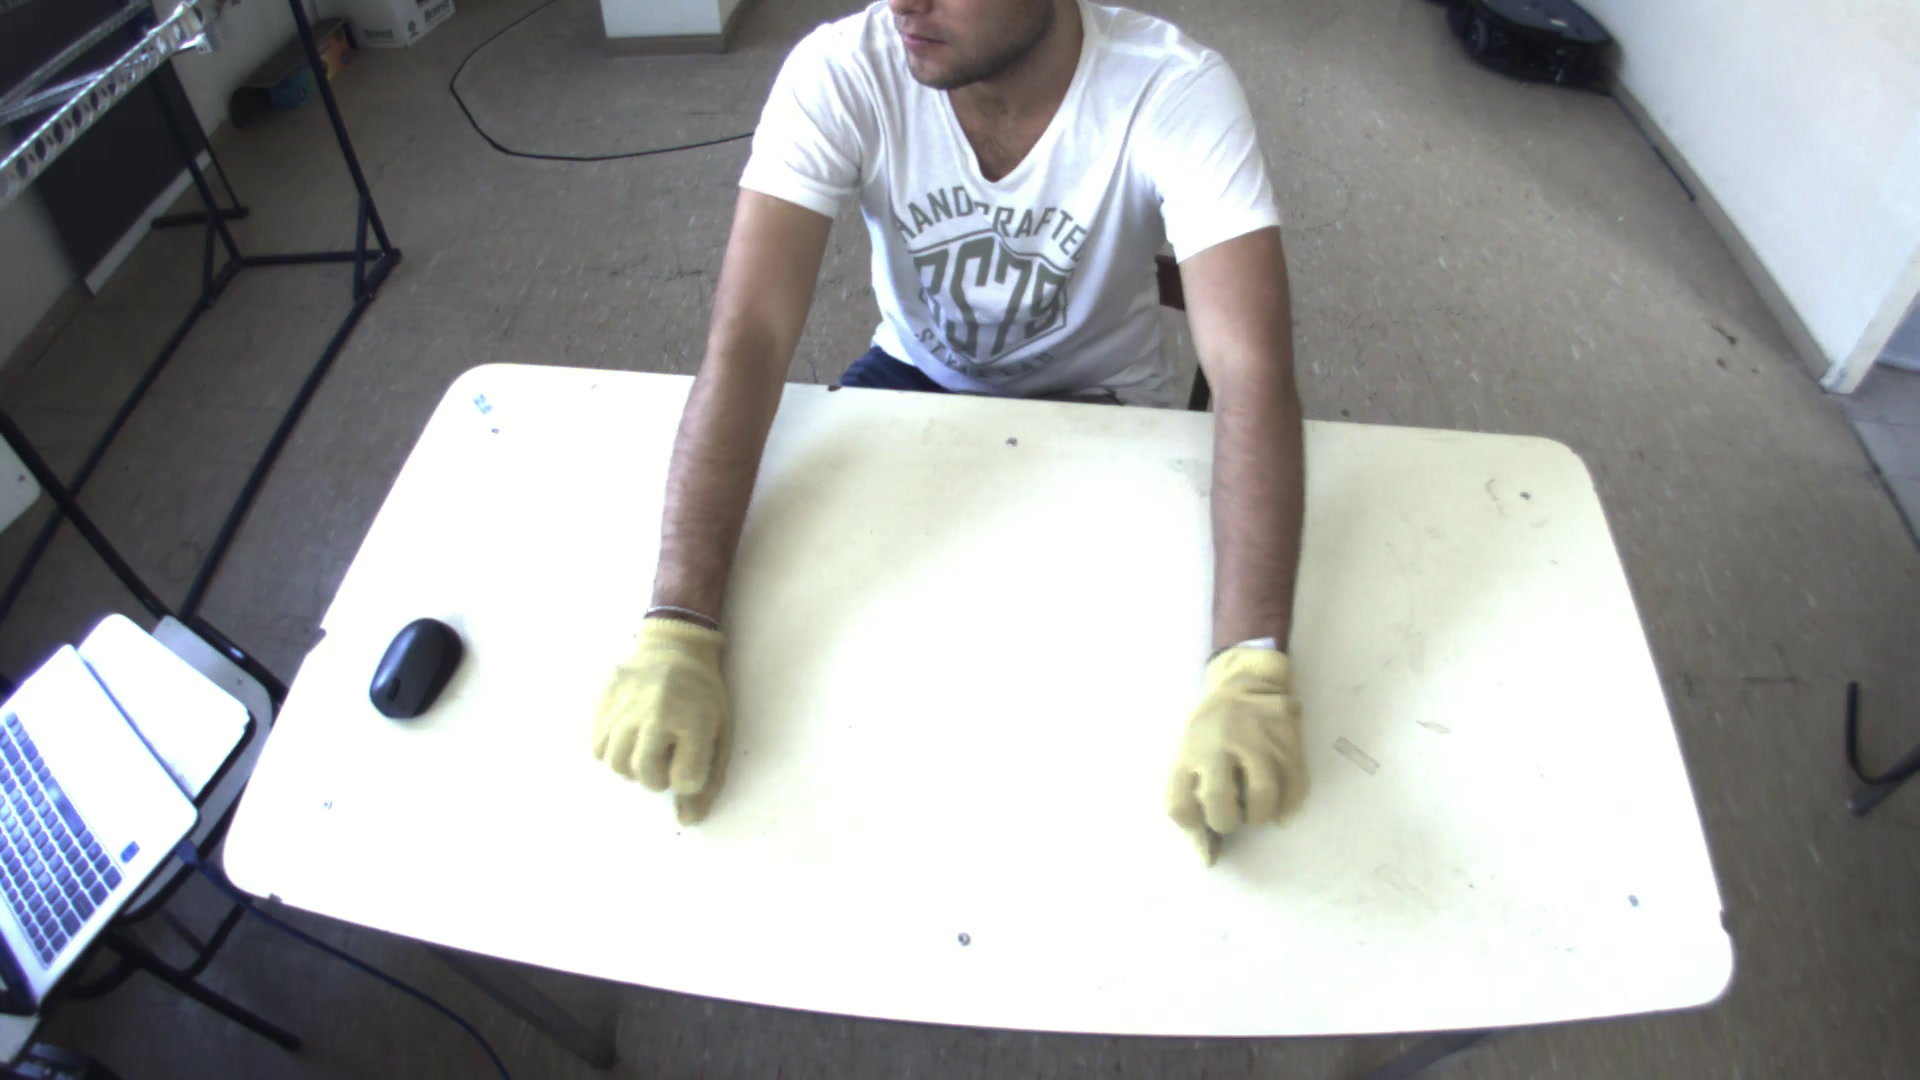hand: (575, 596, 746, 825), (1160, 636, 1323, 848)
